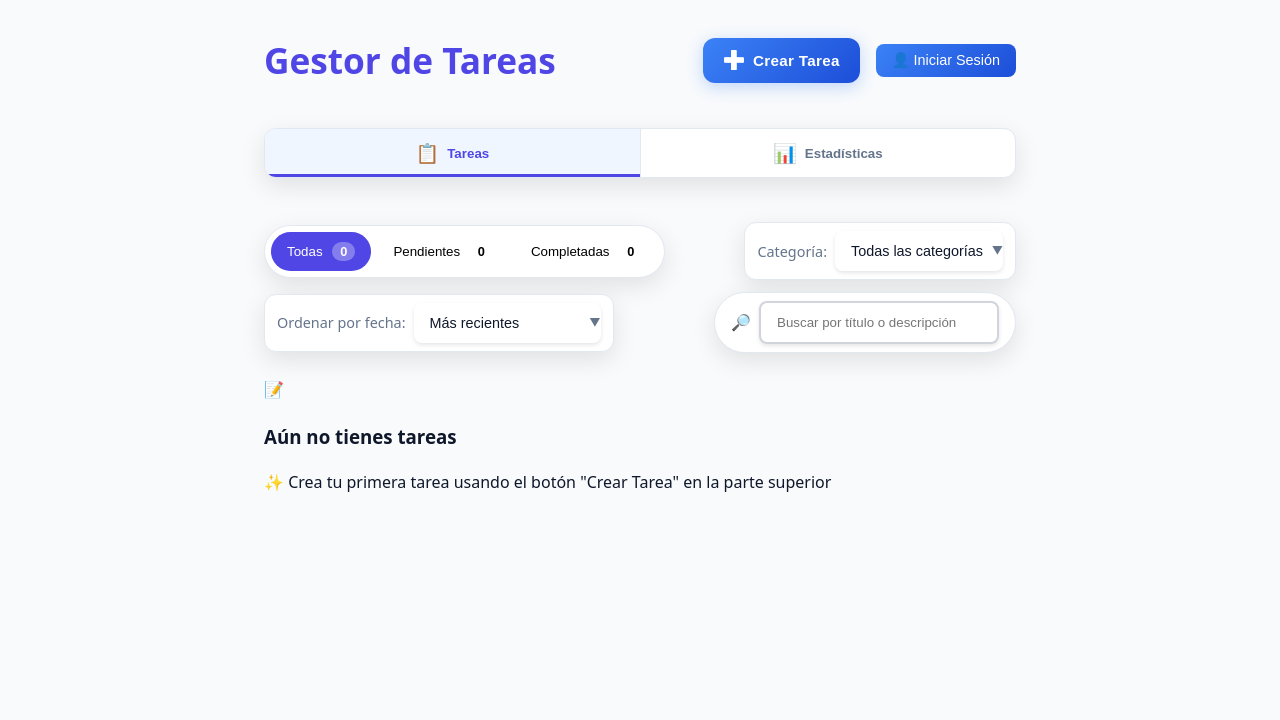
it: Gestor de Tareas - App Principal › 1. Crear Tarea › debe abrir el modal de nueva tarea al hacer clic en "Crear Tarea"
Click the button with aria-label "crear nueva tarea" at (781, 60), box [703,38,860,83]
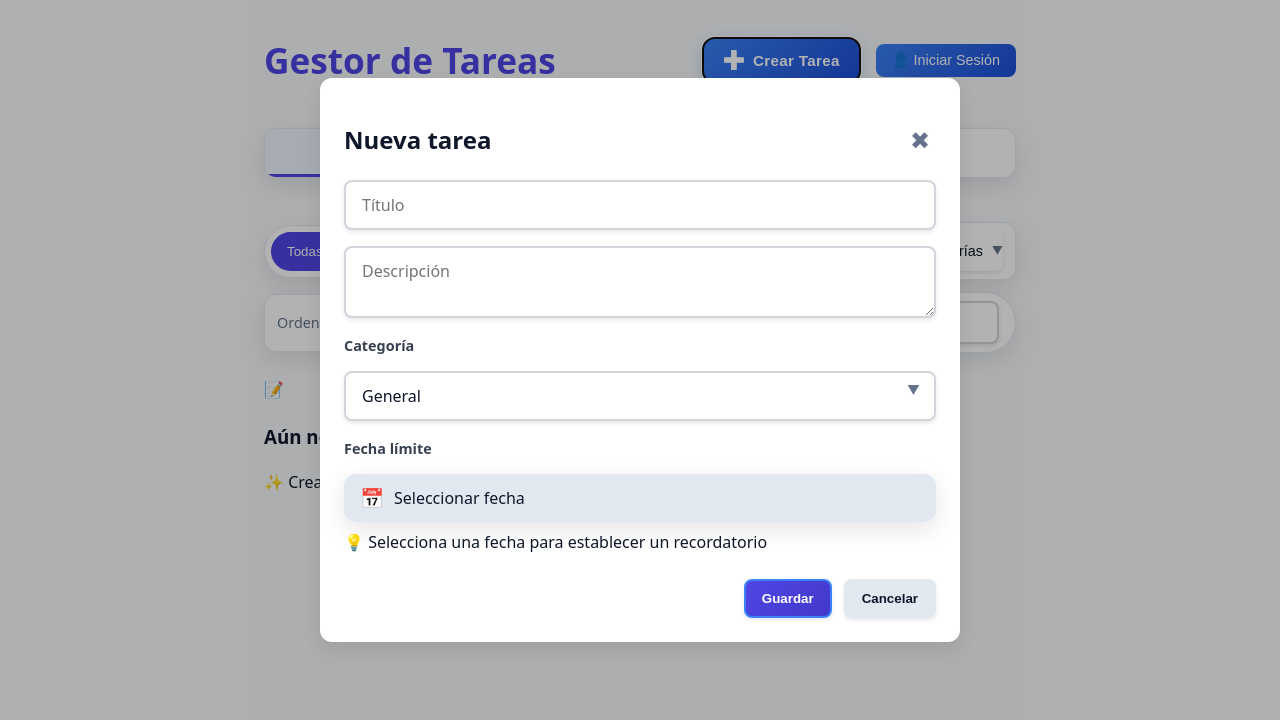
expect the heading "Nueva tarea" is shown: met, box [344,122,491,160]
expect the field with placeholder "Título" is shown: met, box [344,180,936,230]
expect the text box with placeholder "Descripción" is shown: met, box [344,246,936,318]
